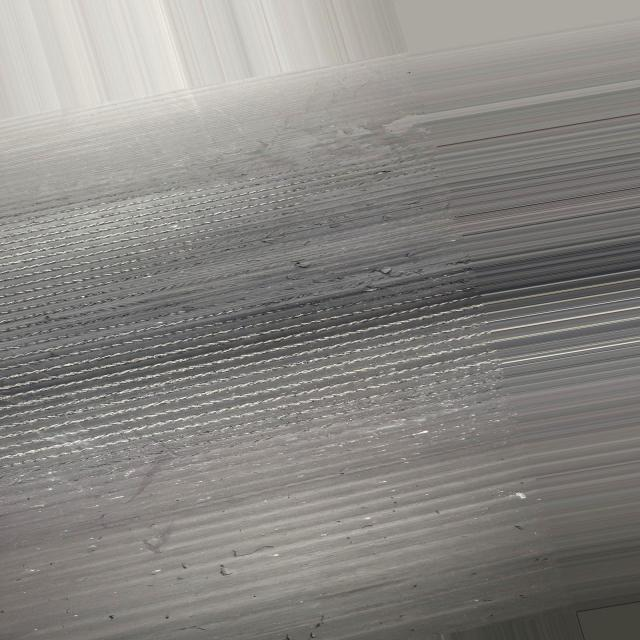impact damage: (4, 128, 498, 448)
